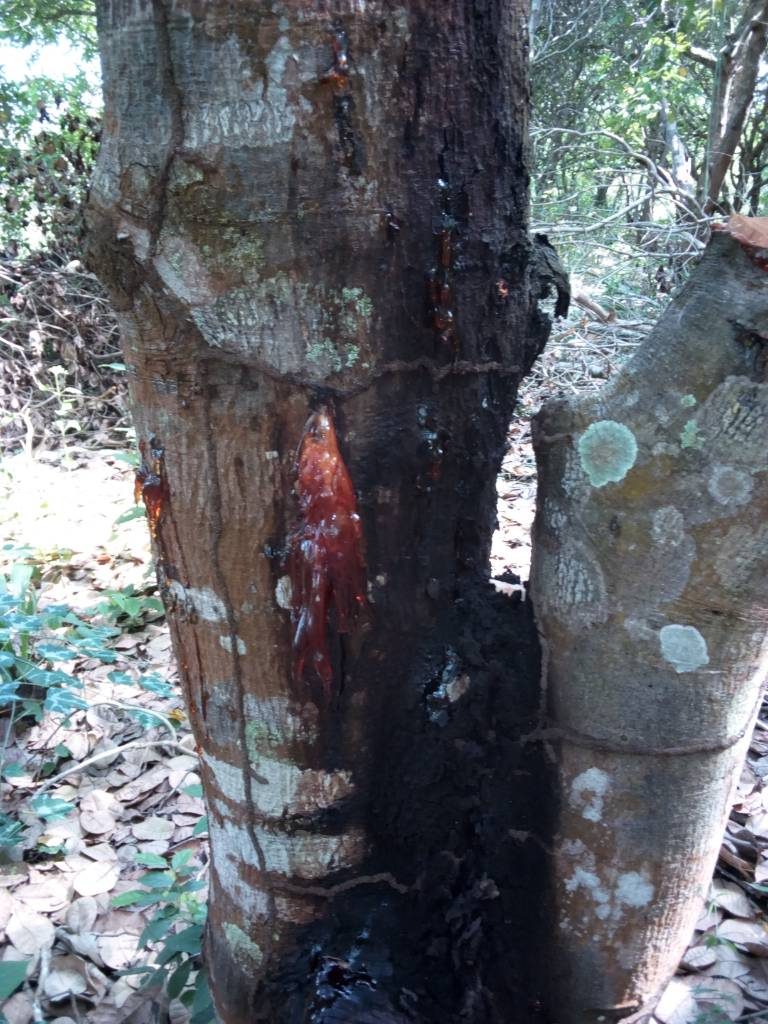Gommose: (286, 400, 515, 1024), (402, 11, 540, 397), (125, 452, 168, 541)
